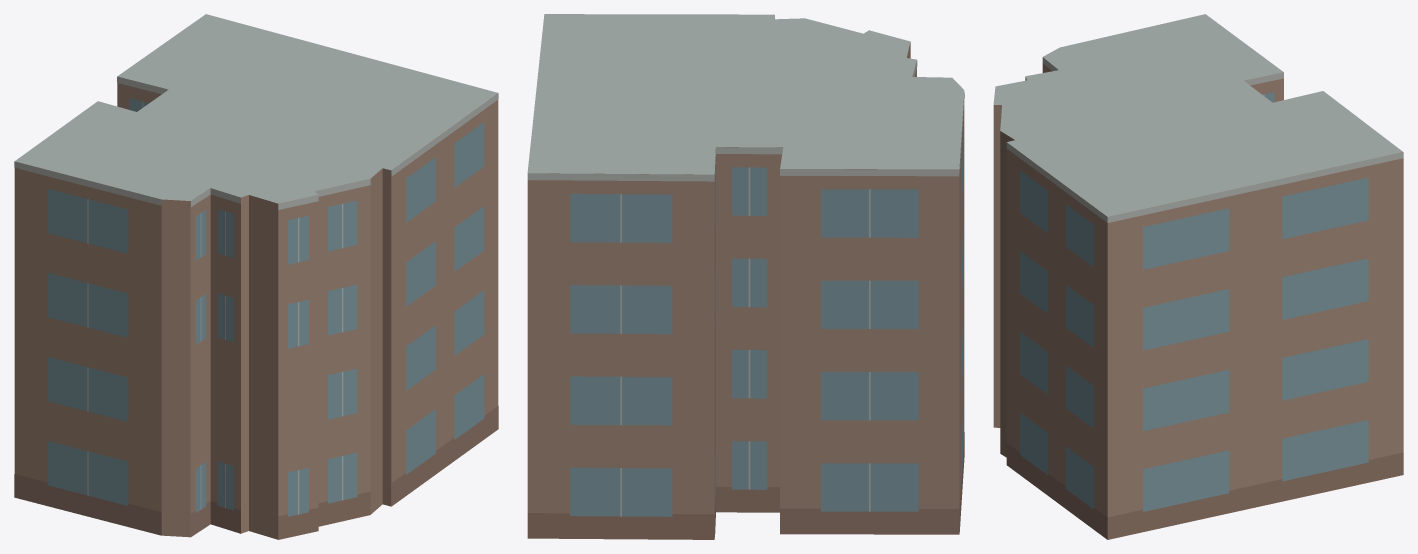
File: survey-upis-32922913.glb
The picture shows the model from 3 angles, left to right: view 1: azimuth 30°, elevation 25°; view 2: azimuth 150°, elevation 25°; view 3: azimuth 270°, elevation 25°; orthographic projection. The views are drawn at different scales.
Visible parts, largest first — view 1: survey-upis-32922913.tmp; view 2: survey-upis-32922913.tmp; view 3: survey-upis-32922913.tmp.
Boxes of the visible parts, x1=… form: survey-upis-32922913.tmp: x1=14, y1=14, x2=498, y2=539; survey-upis-32922913.tmp: x1=527, y1=14, x2=964, y2=539; survey-upis-32922913.tmp: x1=993, y1=14, x2=1403, y2=539.
Size of the model in its own units: 17.33 by 12.85 by 14.8.
